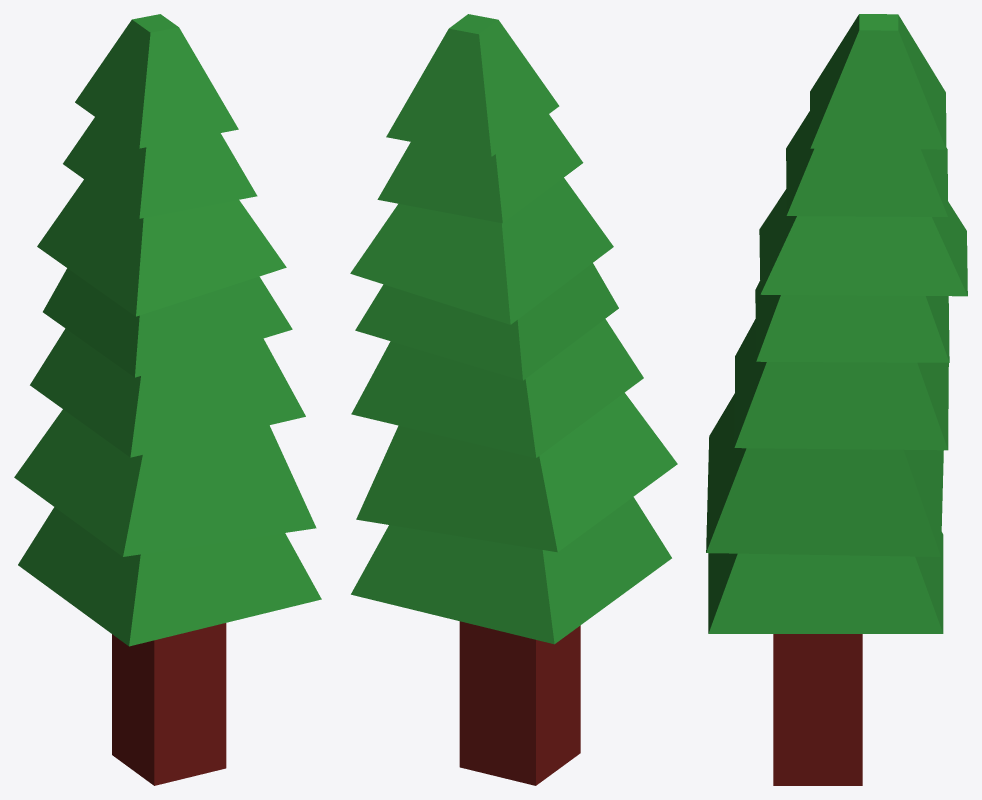
The model's file is Tree.fbx.
3 renders of one model, left to right at view 1: azimuth 30°, elevation 25°; view 2: azimuth 150°, elevation 25°; view 3: azimuth 270°, elevation 25°, orthographic. The views are drawn at different scales.
Visible parts, largest first — view 1: Cube; view 2: Cube; view 3: Cube.
Part boxes in pixels (bbox=[...]): Cube: bbox=[14, 14, 321, 785]; Cube: bbox=[350, 14, 677, 785]; Cube: bbox=[706, 14, 967, 785].
Size of the model in its own units: 127 by 438 by 138.
